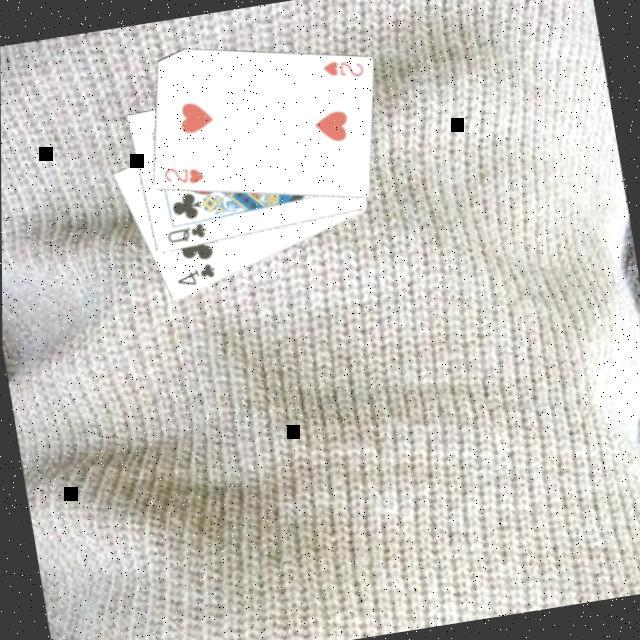2H: (320, 54, 370, 88), (160, 160, 210, 193)
4C: (173, 261, 222, 293)
QC: (164, 221, 212, 250)
